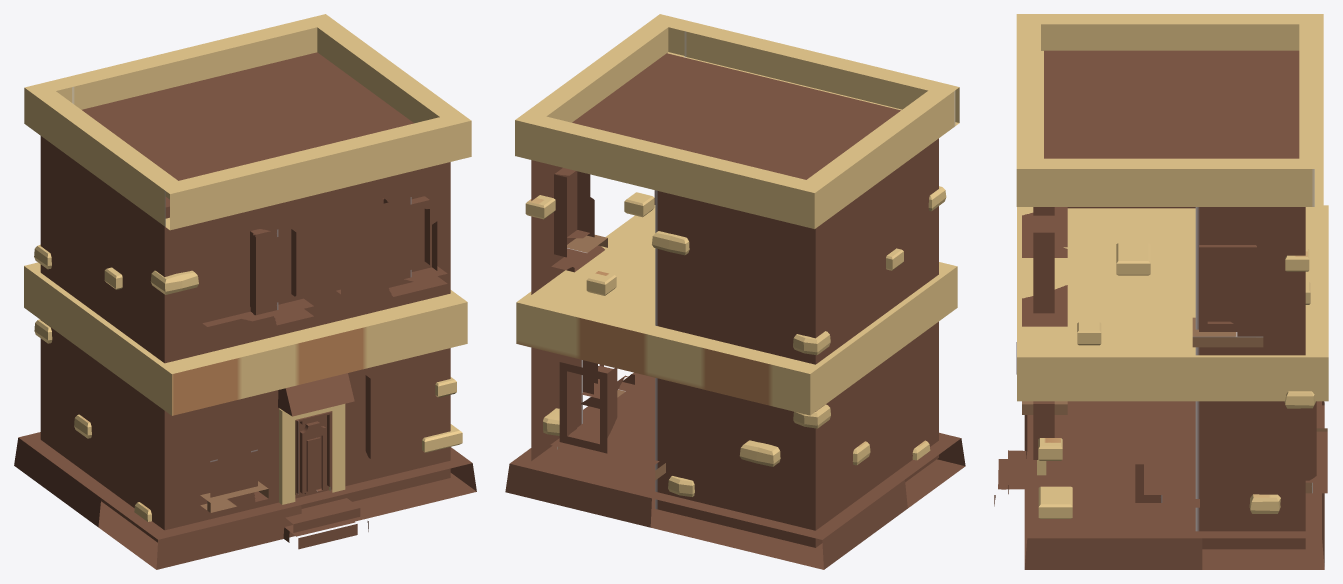
Rendered from Building_ordinary.fbx.
3 views of the same model, side by side, from view 1: azimuth 30°, elevation 25°; view 2: azimuth 150°, elevation 25°; view 3: azimuth 270°, elevation 25° (orthographic). The views are drawn at different scales.
Parts seen in each view (by area): view 1: DummyBuilding; view 2: DummyBuilding; view 3: DummyBuilding.
Boxes of the visible parts, <box> form: DummyBuilding: <box>14,14,476,569</box>; DummyBuilding: <box>505,14,965,569</box>; DummyBuilding: <box>994,14,1328,569</box>.
Size of the model in its own units: 752 by 843 by 645.
